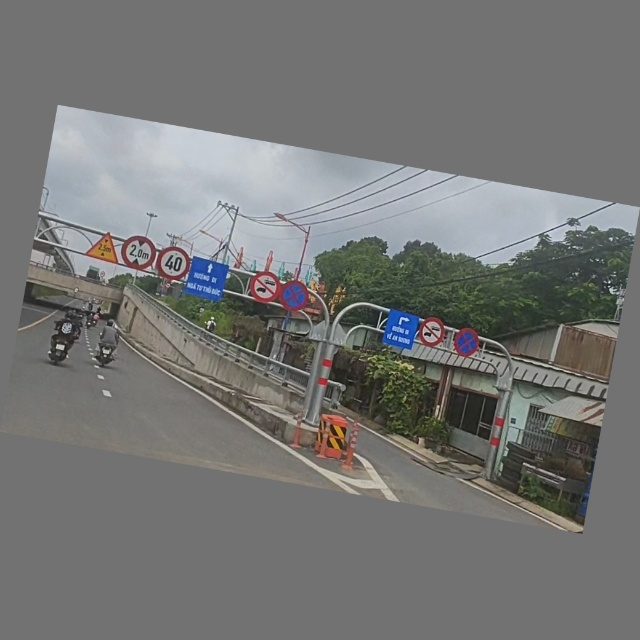P.107: (249, 270, 284, 306), (413, 316, 448, 350)
P.117*: (118, 230, 160, 275)
P.127*40: (154, 244, 194, 283)
P.130: (278, 280, 311, 315), (451, 327, 483, 360)
W.239b*: (84, 230, 124, 266)
